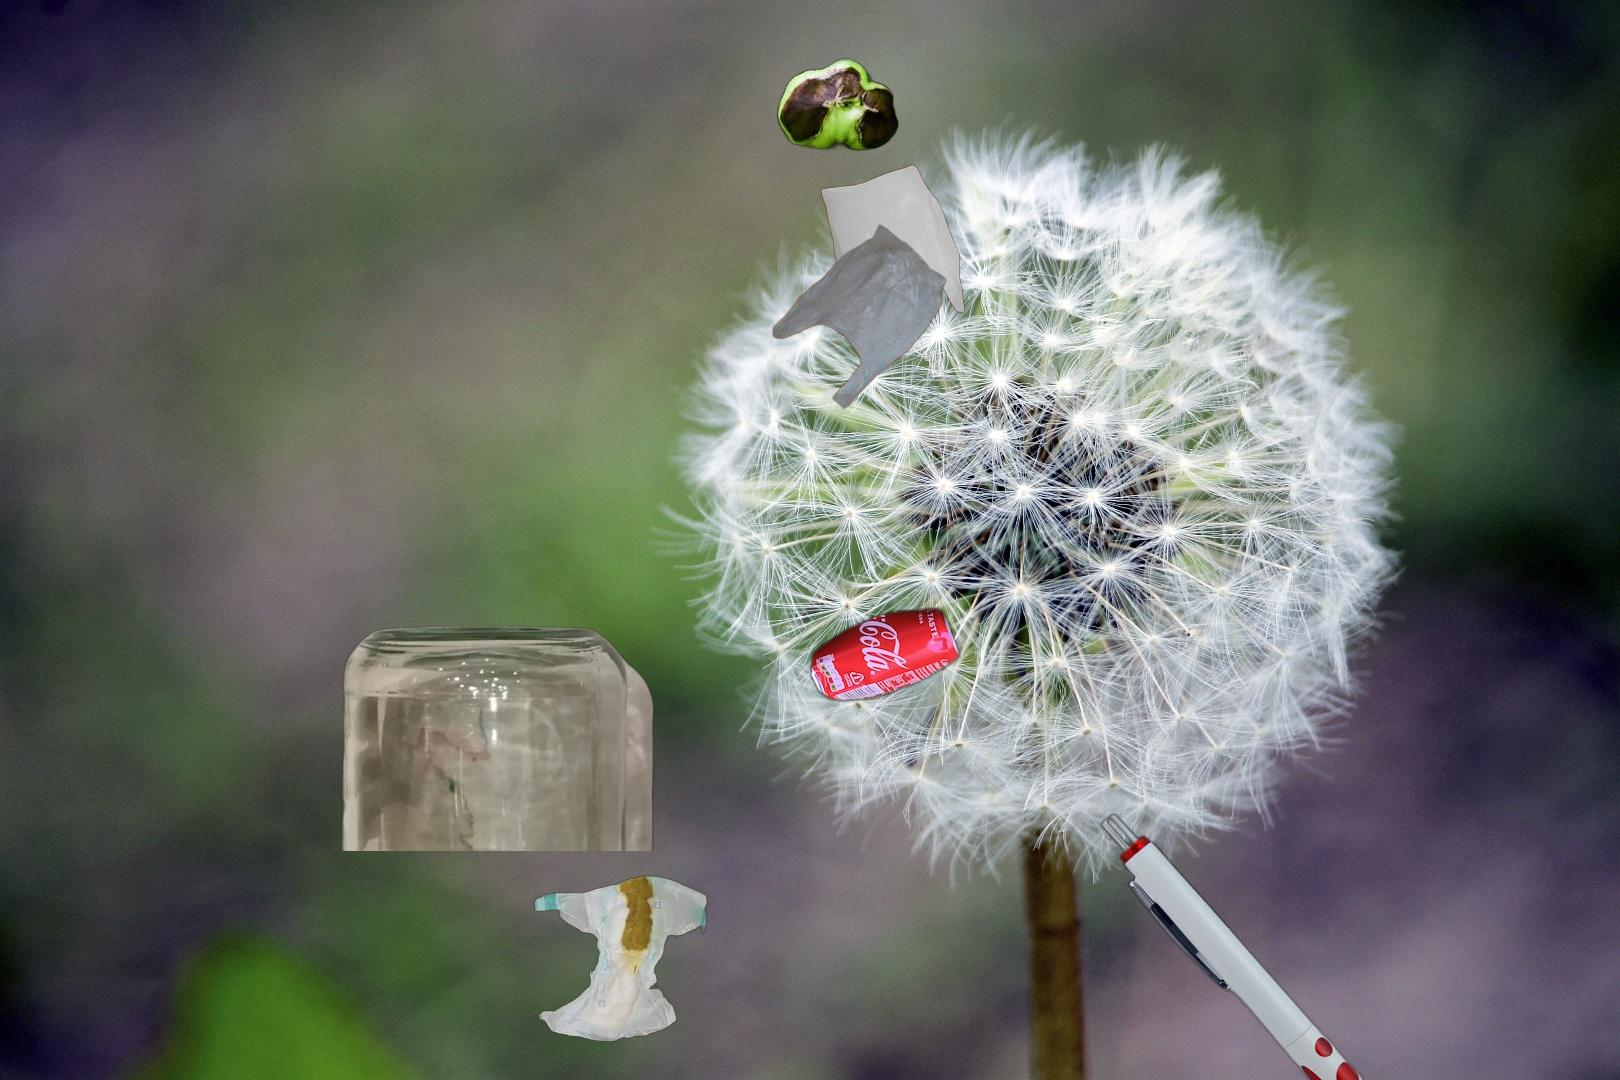biological: (774, 57, 900, 155)
glass: (337, 623, 659, 851)
metal-cans: (806, 601, 1295, 877)
penholder: (996, 765, 1442, 1080)
plastic-bag: (770, 162, 968, 411)
trash: (532, 873, 710, 1045)
